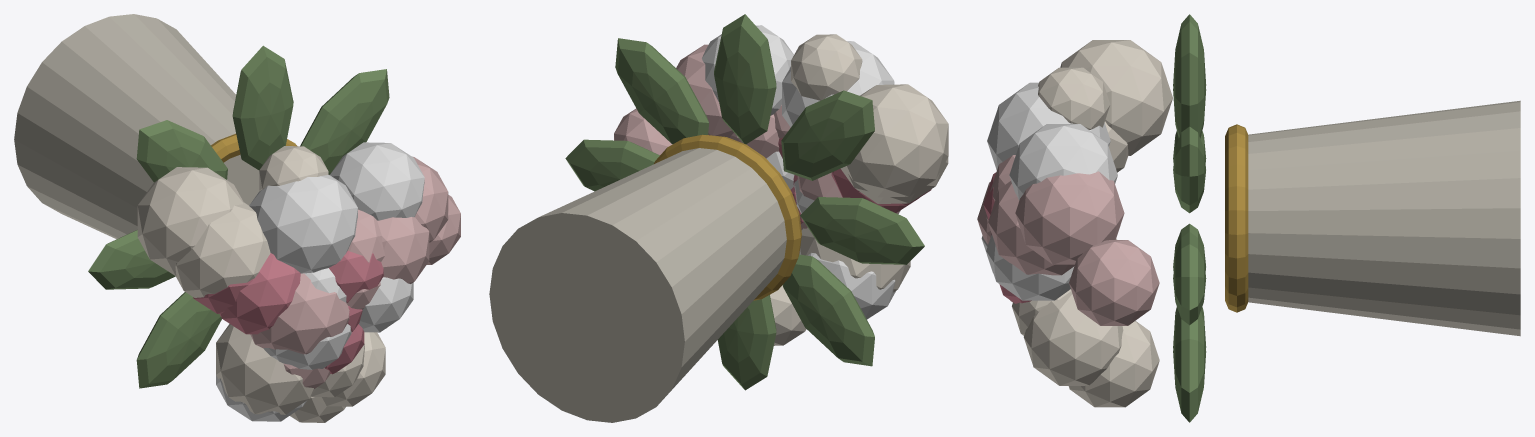
Rendered from flower-vase.glb.
3 views of the same model, side by side, from view 1: azimuth 30°, elevation 25°; view 2: azimuth 150°, elevation 25°; view 3: azimuth 270°, elevation 25° (orthographic). The views are drawn at different scales.
Parts seen in each view (by area): view 1: flower_vase_scan; view 2: flower_vase_scan; view 3: flower_vase_scan.
Part boxes in pixels (left/top/right/bottom): flower_vase_scan: left=14, top=14, right=460, bottom=422; flower_vase_scan: left=489, top=14, right=948, bottom=422; flower_vase_scan: left=977, top=14, right=1520, bottom=422.
Bounding box in the file's own units: 36.8 × 36.8 × 45.96.
